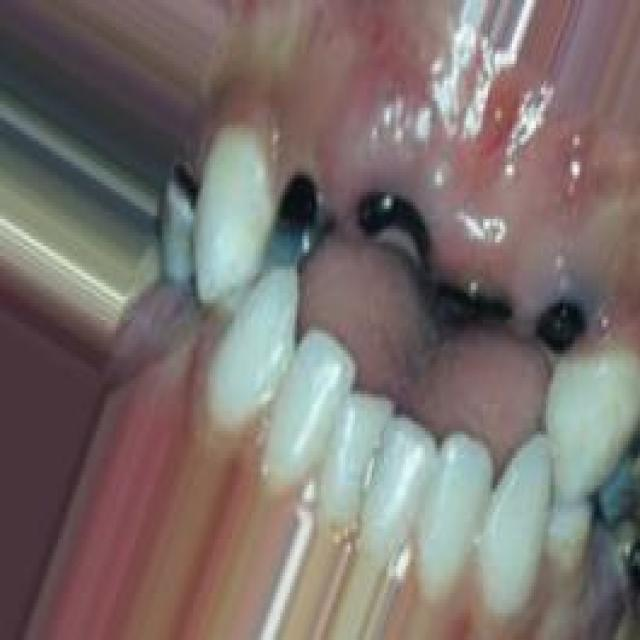caries: (258, 149, 336, 283), (351, 180, 434, 278), (430, 255, 513, 335), (583, 507, 640, 614), (521, 277, 579, 363), (158, 157, 212, 235)
